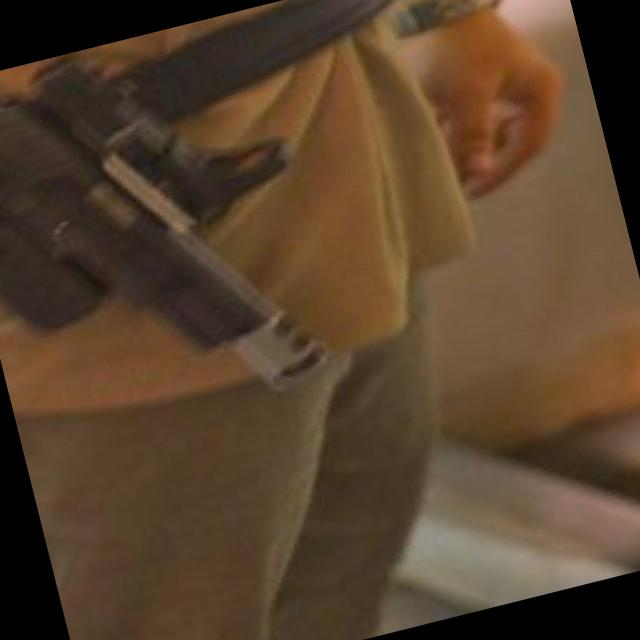Guns: (0, 0, 419, 485)
